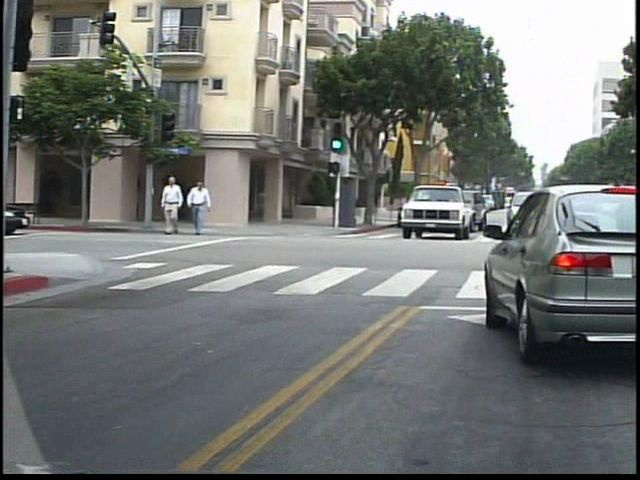person: (166, 174, 193, 242), (194, 174, 222, 239)
